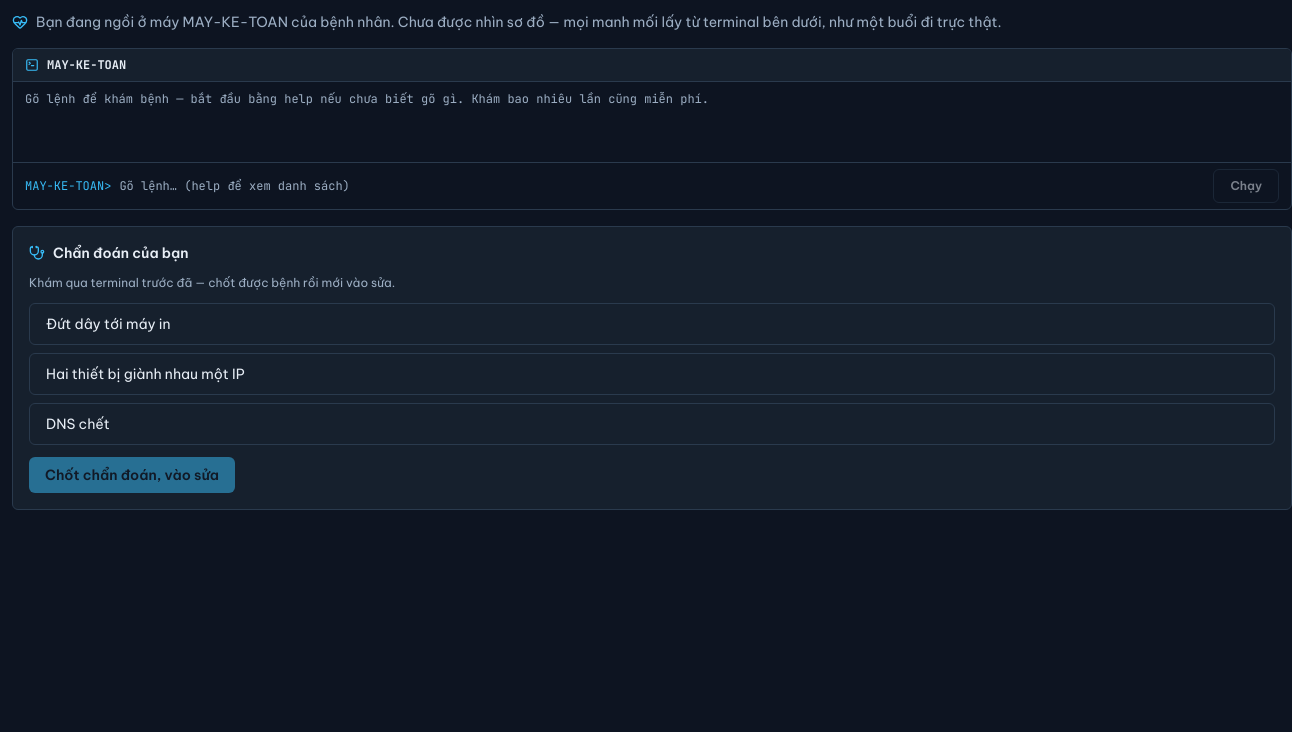
Test: pha khám — chỉ có terminal, không sơ đồ › help kể danh sách lệnh bằng tiếng Việt; lệnh lạ được đáp tử tế
Step 1. Type "help" into the field named "Ô gõ lệnh" → (662, 186), box left=119, top=174, right=1205, bottom=198
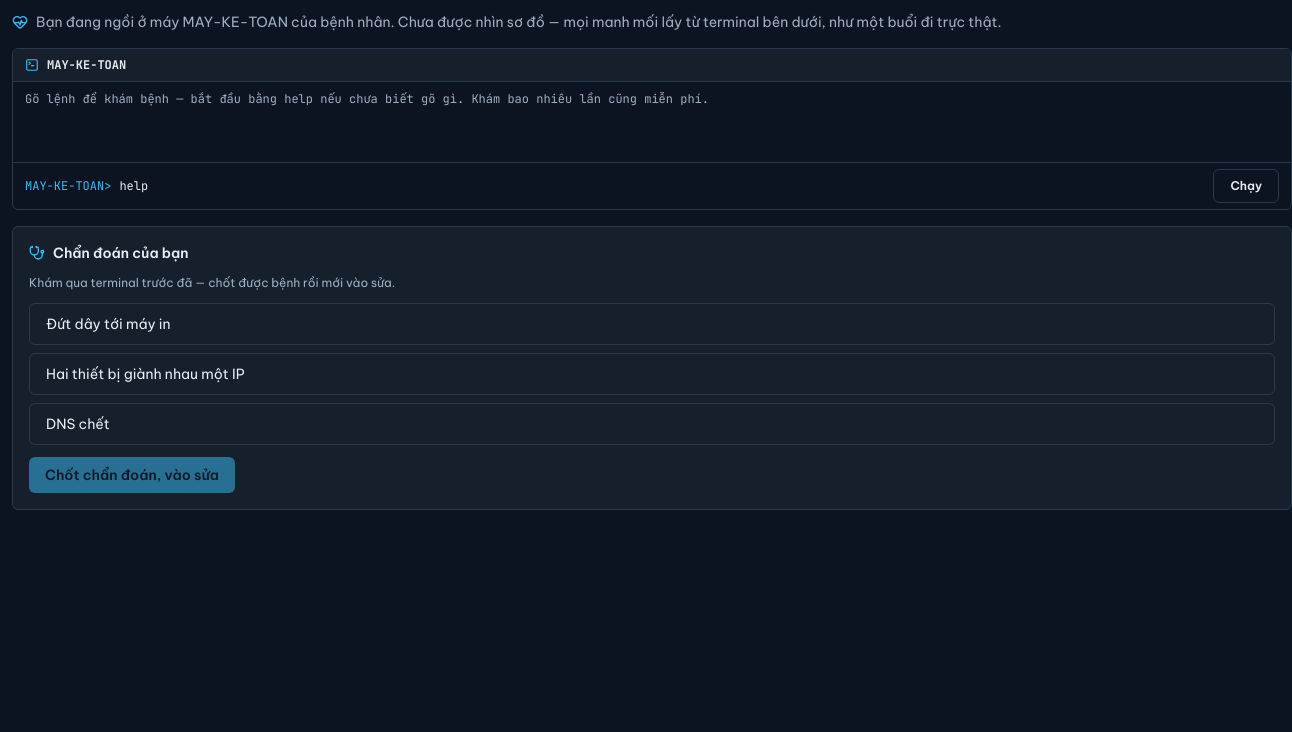
Step 2. Click the button "Chạy" → (1246, 186), box left=1213, top=169, right=1279, bottom=203
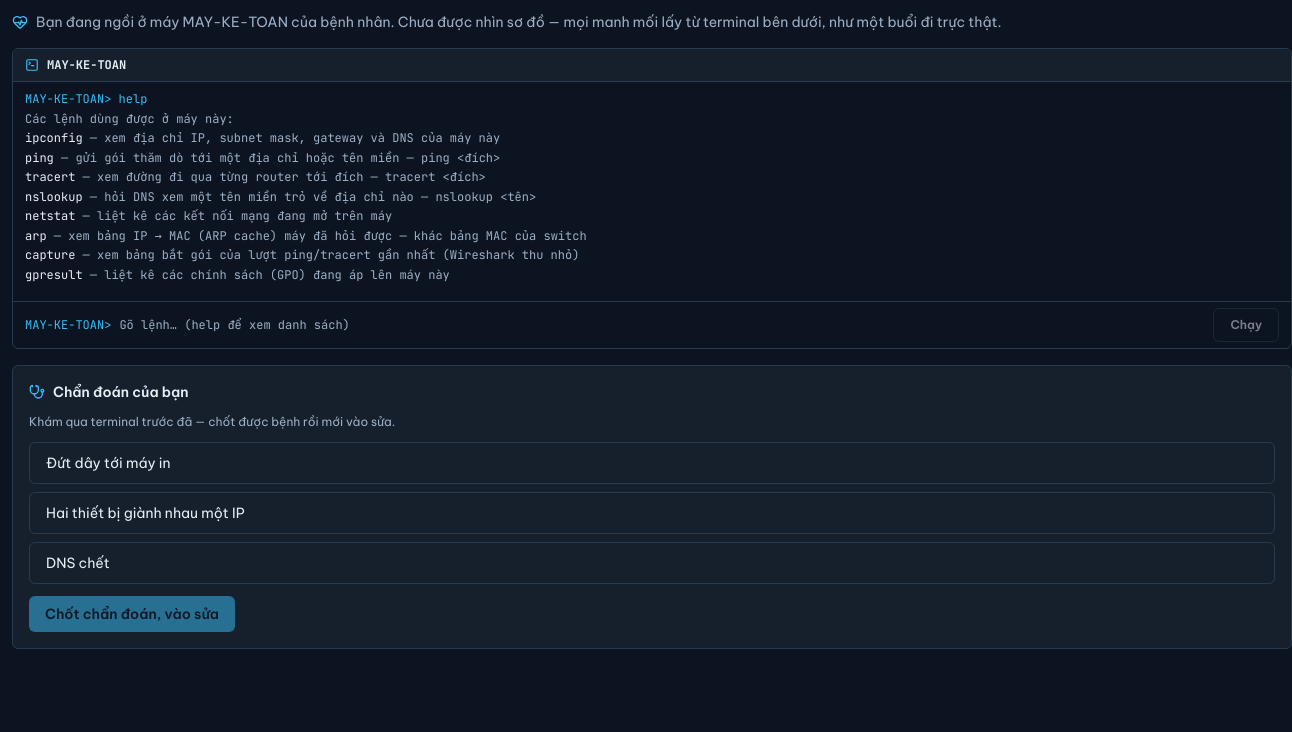
Result: the list item "gpresult — liệt kê các chính sách (GPO) đang áp lên máy này" is shown at left=25, top=266, right=450, bottom=282
Step 3. Type "format c:" into the field named "Ô gõ lệnh" → (662, 325), box left=119, top=313, right=1205, bottom=337
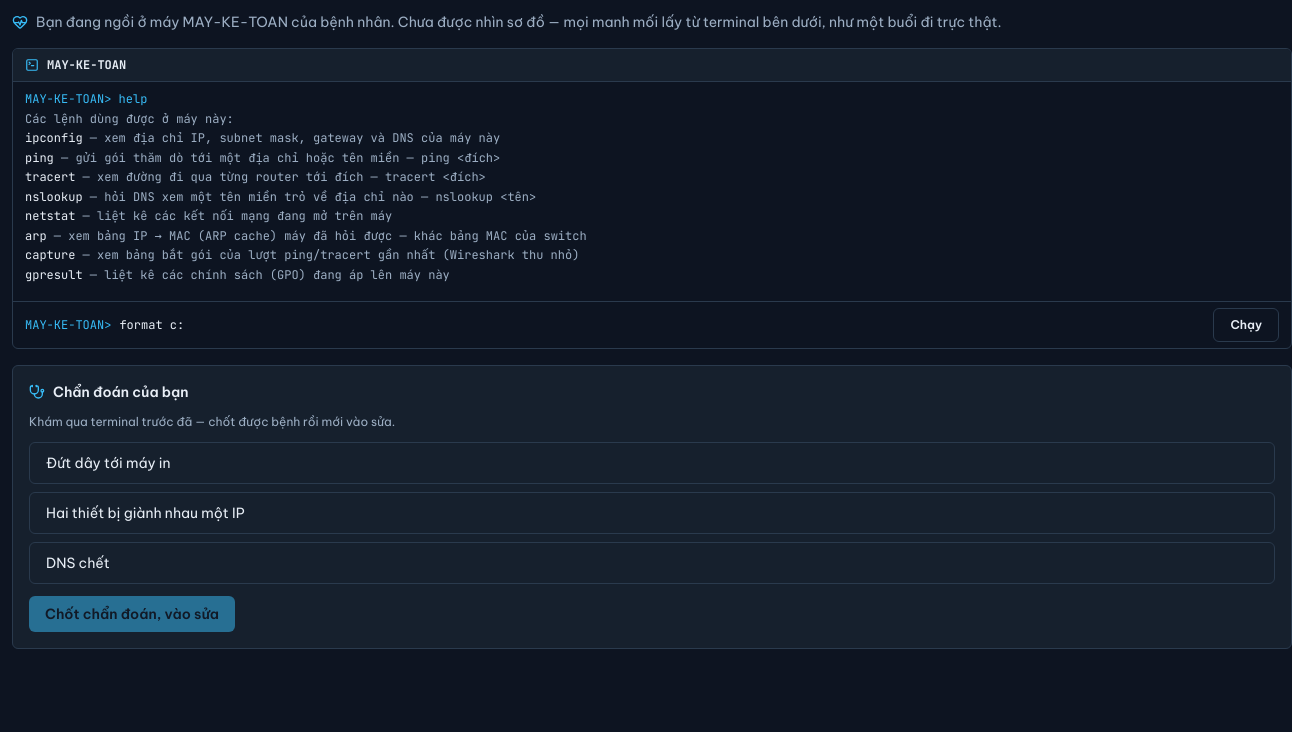
Step 4. Click the button "Chạy" → (1246, 325), box left=1213, top=308, right=1279, bottom=342
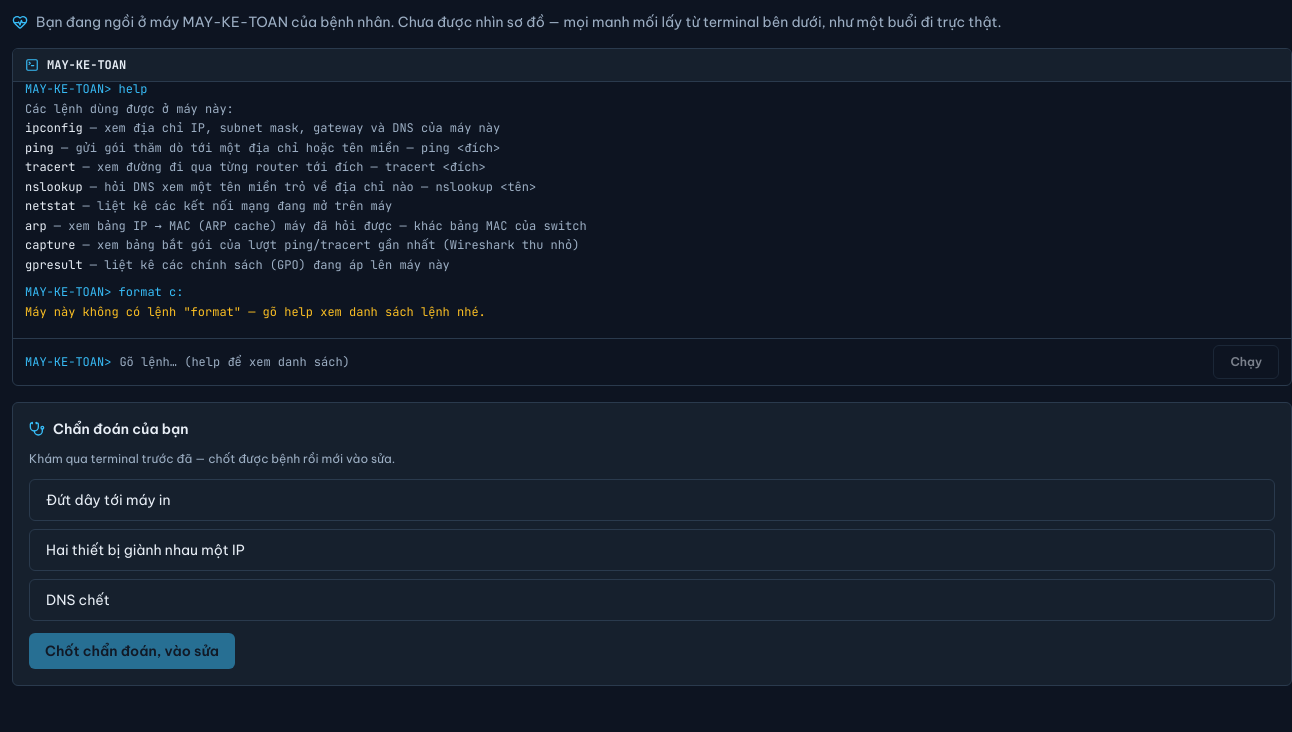
Result: the text "không có lệnh \"format\"" is shown at left=25, top=304, right=486, bottom=320
